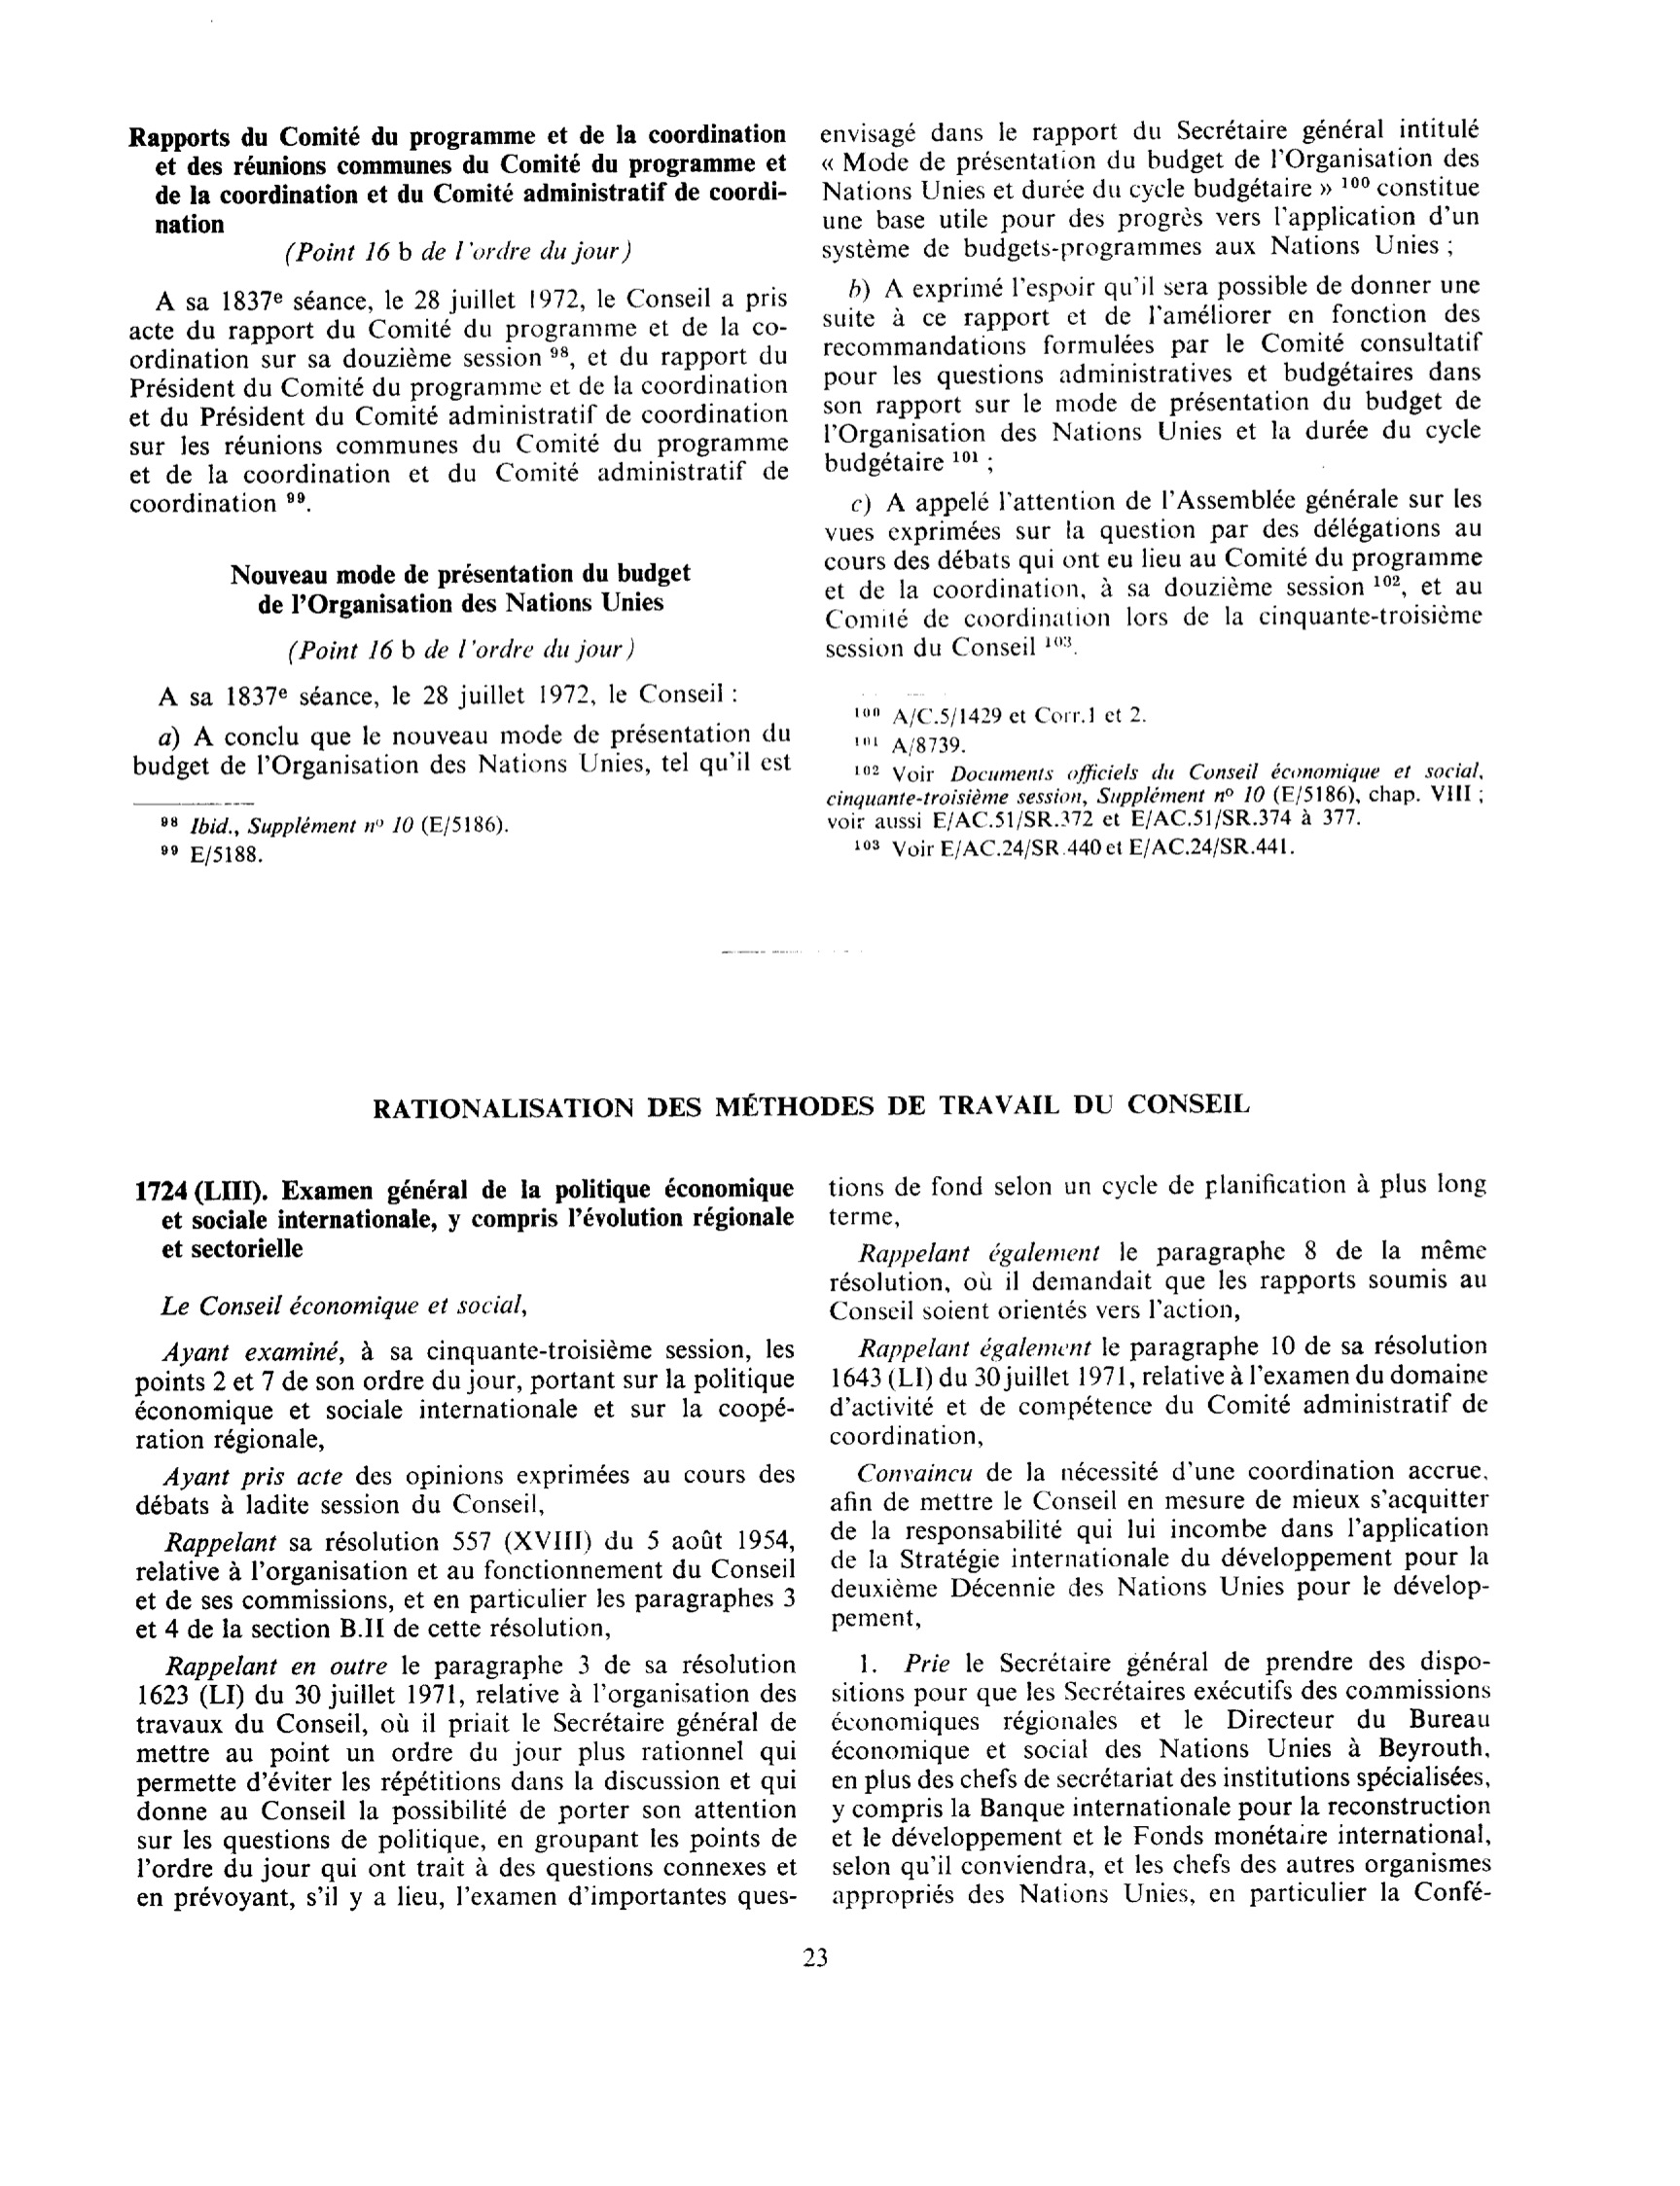MainZone-Continued: (815, 114, 1488, 263), (821, 1165, 1493, 1234)
MainZone-Head: (120, 115, 795, 232), (126, 1168, 799, 1268), (217, 555, 701, 620), (270, 230, 641, 272), (270, 630, 645, 667)
MainZone-ListItem: (825, 1644, 1501, 1918), (816, 268, 1487, 478), (816, 484, 1489, 668), (124, 718, 796, 784)
MainZone-P: (127, 1650, 804, 1917), (103, 281, 798, 521), (824, 1456, 1496, 1635), (824, 1331, 1495, 1453), (128, 1333, 803, 1454), (127, 1525, 802, 1644), (824, 1235, 1495, 1328), (129, 1459, 804, 1522), (146, 679, 747, 712), (139, 1284, 535, 1325)
MarginTextZone-Notes: (811, 761, 1488, 833), (840, 835, 1303, 862), (147, 807, 519, 841), (844, 700, 1154, 730), (153, 838, 271, 869), (843, 733, 971, 759)
StampZone: (362, 1080, 1257, 1136)
TitlePageZone: (799, 1939, 833, 1980)
